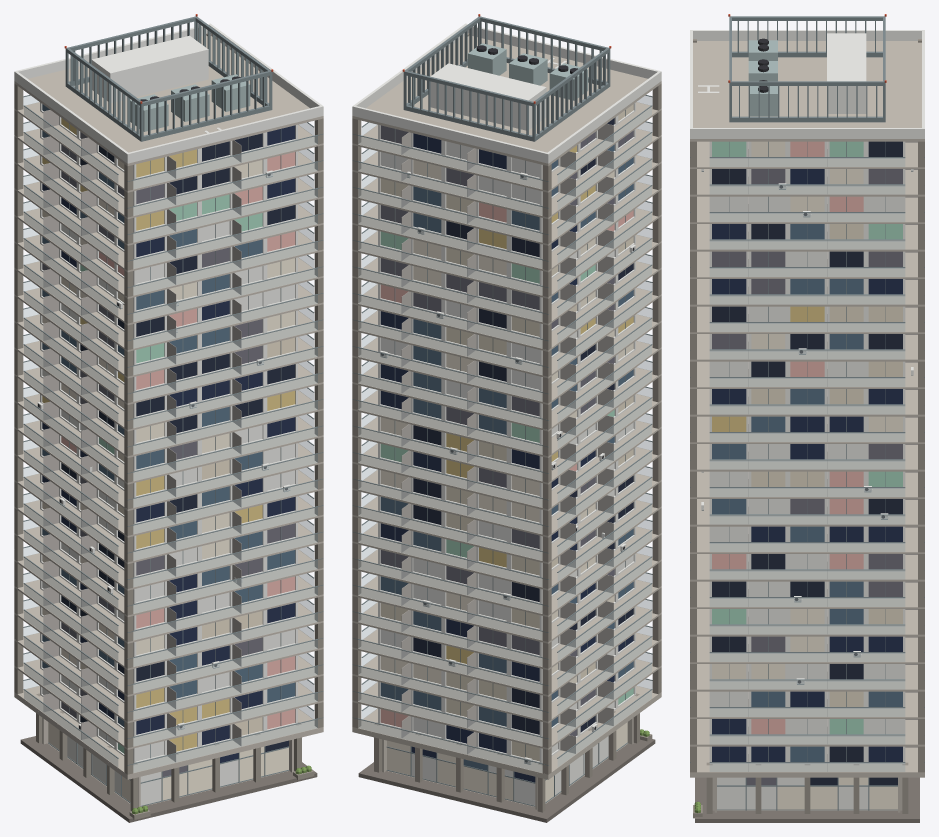
Rendered from tb_tower_mansion_24f_01.fbx.
3 renders of one model, left to right at view 1: azimuth 30°, elevation 25°; view 2: azimuth 150°, elevation 25°; view 3: azimuth 270°, elevation 25°, orthographic. The views are drawn at different scales.
Visible parts, largest first — view 1: tb_tower_mansion_24f_01; view 2: tb_tower_mansion_24f_01; view 3: tb_tower_mansion_24f_01.
Part boxes in pixels (x1=…): tb_tower_mansion_24f_01: x1=14, y1=14, x2=323, y2=822; tb_tower_mansion_24f_01: x1=352, y1=14, x2=661, y2=822; tb_tower_mansion_24f_01: x1=690, y1=14, x2=924, y2=822.
Size of what is drawn, in the model's own units: 24 by 82.05 by 24.
Materials: 4 (3 with a texture image).
